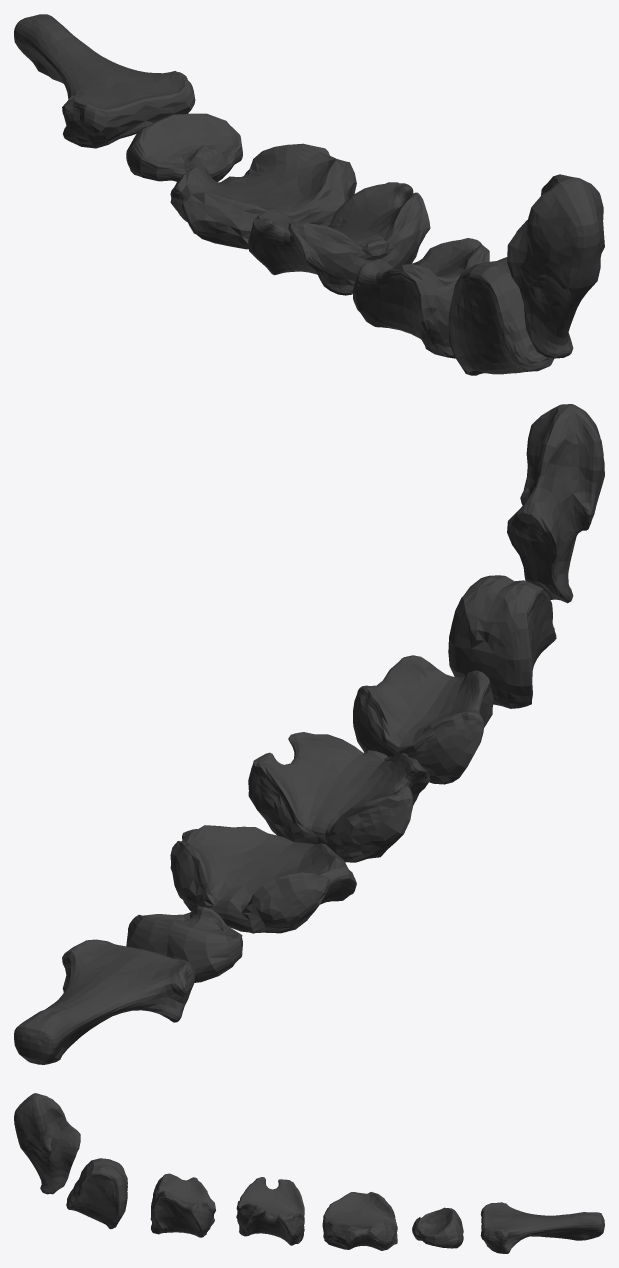
The model's file is b_sternum_LO.glb.
3 views of the same model, one above another, from view 1: azimuth 30°, elevation 25°; view 2: azimuth 150°, elevation 25°; view 3: azimuth 270°, elevation 25° (orthographic). The views are drawn at different scales.
Visible parts, largest first — view 1: b_sternum_LO; view 2: b_sternum_LO; view 3: b_sternum_LO.
Boxes of the visible parts, x1,y1,x2,y2 form: b_sternum_LO: (14, 14, 604, 375); b_sternum_LO: (14, 404, 604, 1064); b_sternum_LO: (14, 1093, 604, 1253).
Bounding box in the file's own units: 0.000929 × 0.00148 × 0.00532.
Materials: 1 (1 with a texture image).
